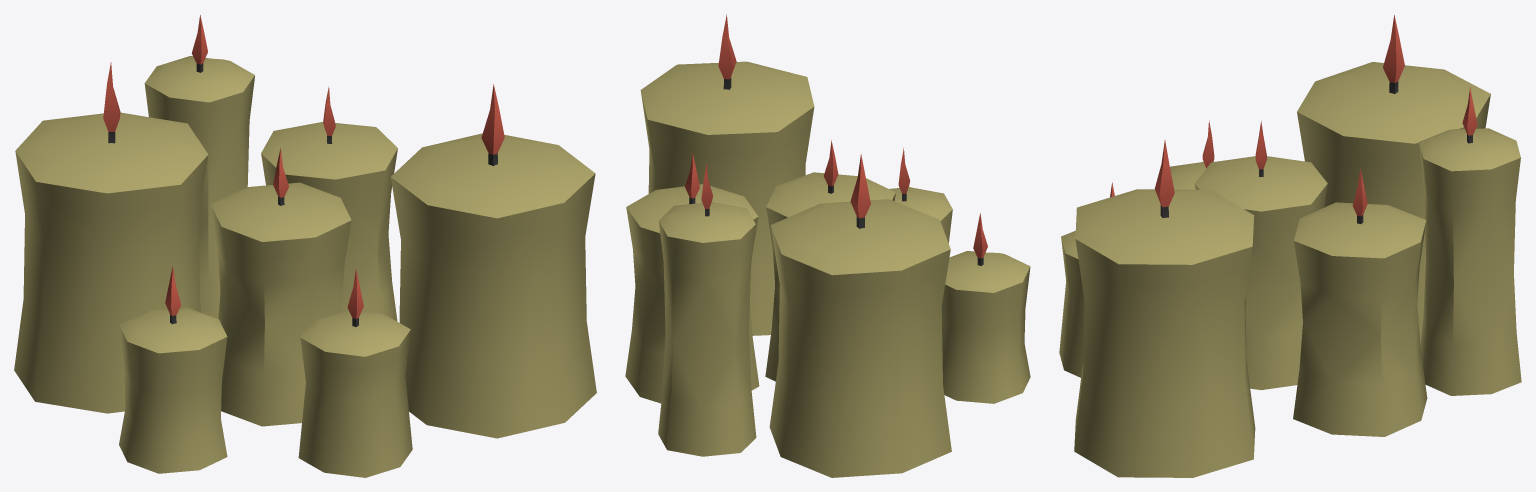
Rendered from Candles_1_GD.glb.
The picture shows the model from 3 angles, left to right: view 1: azimuth 30°, elevation 25°; view 2: azimuth 150°, elevation 25°; view 3: azimuth 270°, elevation 25°; orthographic projection. The views are drawn at different scales.
Visible parts, largest first — view 1: Candles_1; view 2: Candles_1; view 3: Candles_1.
Boxes of the visible parts, x1,y1,x2,y2 form: Candles_1: [14, 15, 596, 477]; Candles_1: [625, 14, 1030, 477]; Candles_1: [1059, 15, 1521, 477].
Size of the model in its own units: 6.61 by 4.55 by 6.33.
